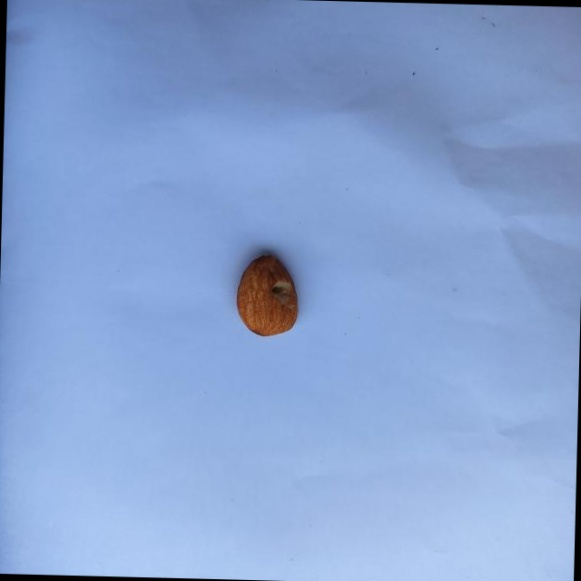grade3: (234, 250, 304, 341)
